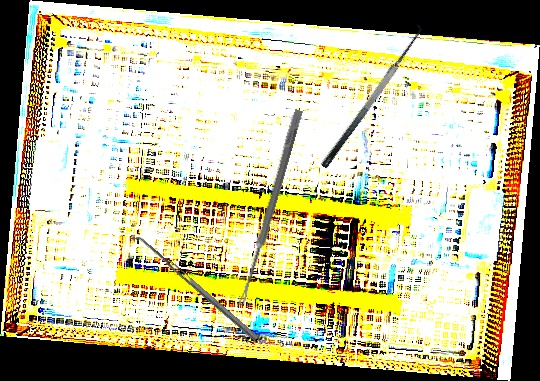Spatula Surgical: (308, 19, 430, 170), (129, 231, 259, 346)
Surgical Spoon: (237, 108, 303, 308)
